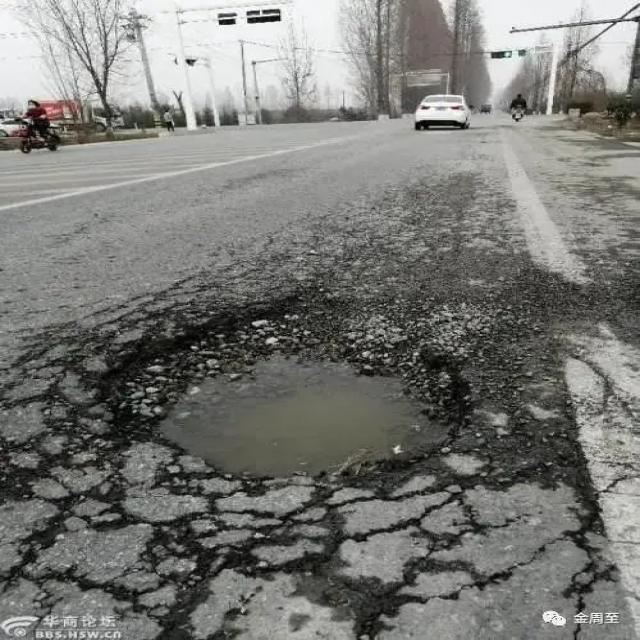Pothole: (99, 299, 471, 481)
